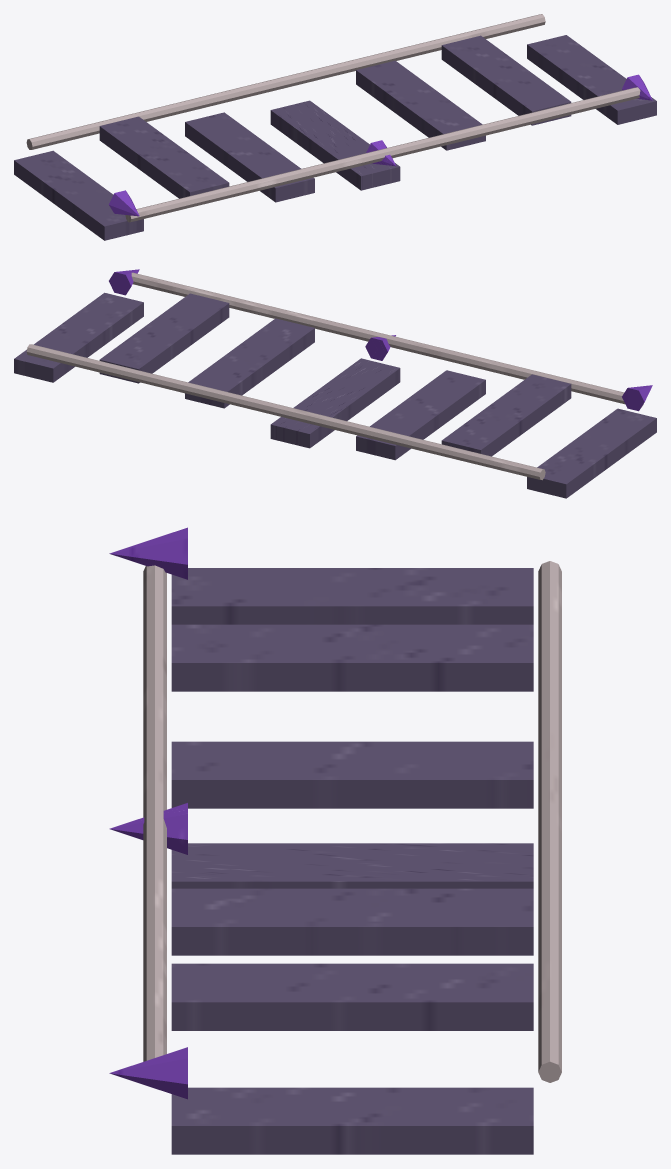
The model's file is fractured_bridge_lod1.glb.
3 renders of one model, top to bottom at view 1: azimuth 30°, elevation 25°; view 2: azimuth 150°, elevation 25°; view 3: azimuth 270°, elevation 25°, orthographic. The views are drawn at different scales.
Parts seen in each view (by area): view 1: bone_11, bone_10, ash_0, ash_2, ash_7, ash_6, ash_3, ash_4, ash_8, rift_1, rift_9; view 2: bone_10, bone_11, ash_0, ash_2, ash_7, ash_6, ash_8, ash_4, ash_3, rift_1, rift_9, rift_5; view 3: ash_2, ash_6, ash_7, ash_3, ash_8, ash_0, ash_4, bone_10, bone_11, rift_9, rift_1, rift_5.
Part boxes in pixels (<box>): bone_11: <box>125,87,640,222</box>; bone_10: <box>26,14,545,149</box>; ash_0: <box>14,150,143,240</box>; ash_2: <box>99,116,229,198</box>; ash_7: <box>441,35,571,125</box>; ash_6: <box>356,60,485,150</box>; ash_3: <box>185,112,314,202</box>; ash_4: <box>270,100,400,190</box>; ash_8: <box>527,35,656,124</box>; rift_1: <box>108,190,139,216</box>; rift_9: <box>622,74,652,100</box>; bone_10: <box>26,344,545,480</box>; bone_11: <box>131,272,643,407</box>; ash_0: <box>527,408,656,498</box>; ash_2: <box>441,374,571,456</box>; ash_7: <box>99,293,229,383</box>; ash_6: <box>185,318,314,408</box>; ash_8: <box>14,292,143,382</box>; ash_4: <box>270,358,400,448</box>; ash_3: <box>356,370,485,460</box>; rift_1: <box>622,385,652,411</box>; rift_9: <box>109,269,139,295</box>; rift_5: <box>365,335,395,360</box>; ash_2: <box>171,624,533,691</box>; ash_6: <box>171,888,533,955</box>; ash_7: <box>171,963,533,1030</box>; ash_3: <box>171,741,533,808</box>; ash_8: <box>171,1087,533,1154</box>; ash_0: <box>171,568,533,624</box>; ash_4: <box>171,843,533,888</box>; bone_10: <box>538,561,561,1082</box>; bone_11: <box>143,565,166,1061</box>; rift_9: <box>109,1047,187,1099</box>; rift_1: <box>109,527,187,579</box>; rift_5: <box>109,803,187,854</box>.
Size of the model in its own units: 19.38 by 1.8 by 6.88.
Materials: 3 (3 with a texture image).
